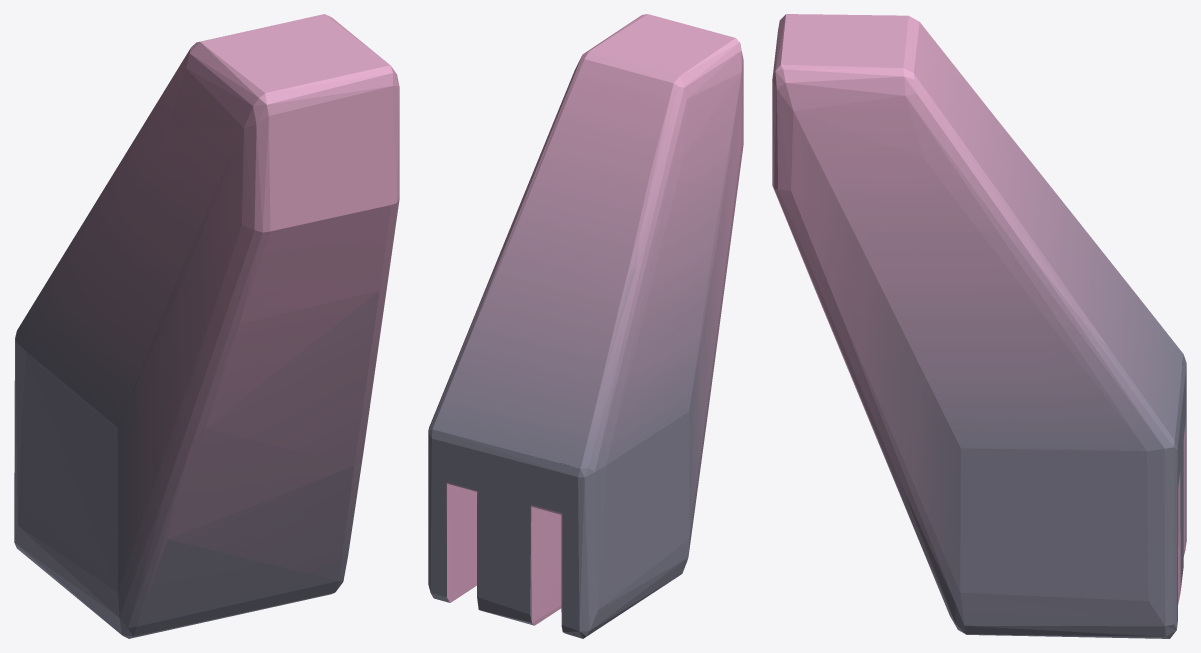
File: cube_nose.obj
3 views of the same model, side by side, from view 1: azimuth 30°, elevation 25°; view 2: azimuth 150°, elevation 25°; view 3: azimuth 270°, elevation 25° (orthographic). The views are drawn at different scales.
Parts seen in each view (by area): view 1: model_0; view 2: model_0; view 3: model_0.
Boxes of the visible parts, x1,y1,x2,y2 form: model_0: (14, 14, 399, 638); model_0: (428, 14, 743, 638); model_0: (772, 14, 1186, 638).
Bounding box in the file's own units: 0.2878 × 0.7306 × 0.5001.
